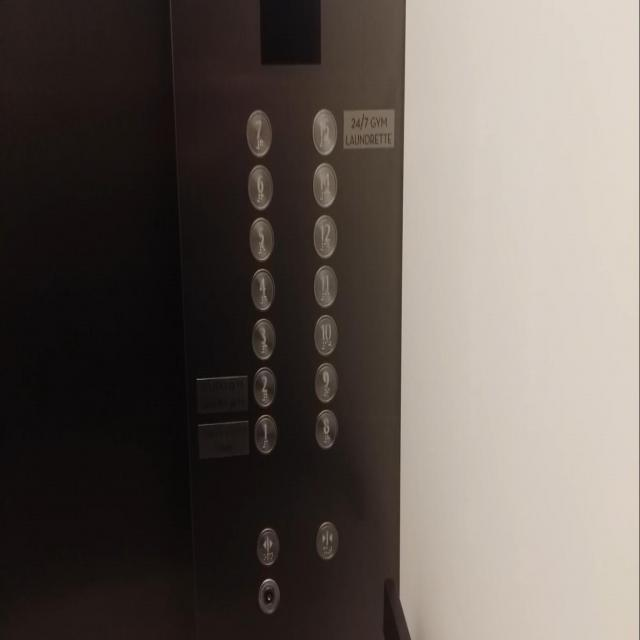1: (253, 412, 277, 454)
10: (312, 313, 338, 355)
11: (313, 264, 337, 308)
12: (312, 214, 337, 259)
14: (312, 162, 337, 208)
15: (310, 105, 336, 156)
2: (252, 363, 276, 408)
3: (250, 315, 276, 361)
4: (250, 266, 274, 311)
5: (248, 213, 274, 261)
6: (248, 164, 272, 208)
7: (246, 108, 271, 156)
8: (314, 407, 339, 449)
9: (314, 362, 339, 403)
close: (316, 520, 339, 560)
open: (256, 526, 279, 566)
